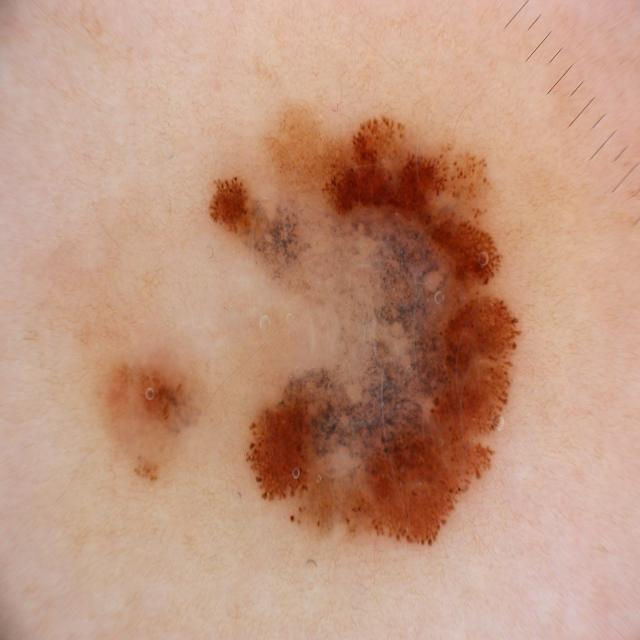Melanoma: (204, 100, 524, 568)
